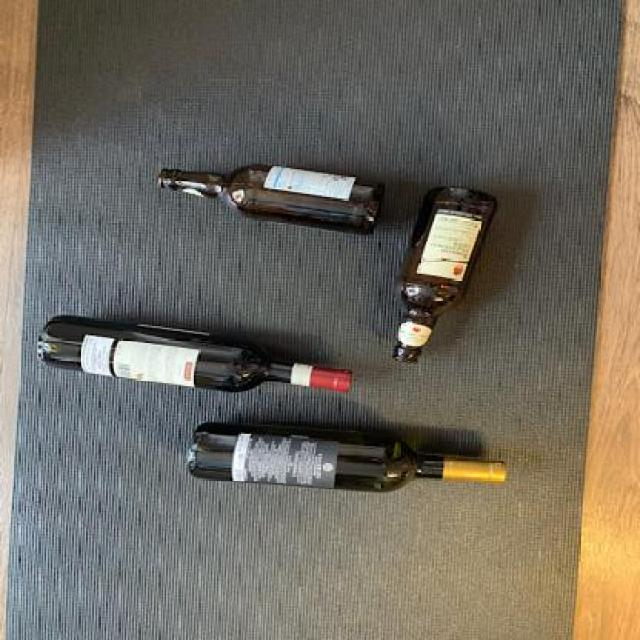trash: (32, 313, 360, 401), (185, 418, 513, 496), (146, 152, 382, 243), (378, 181, 494, 362)
